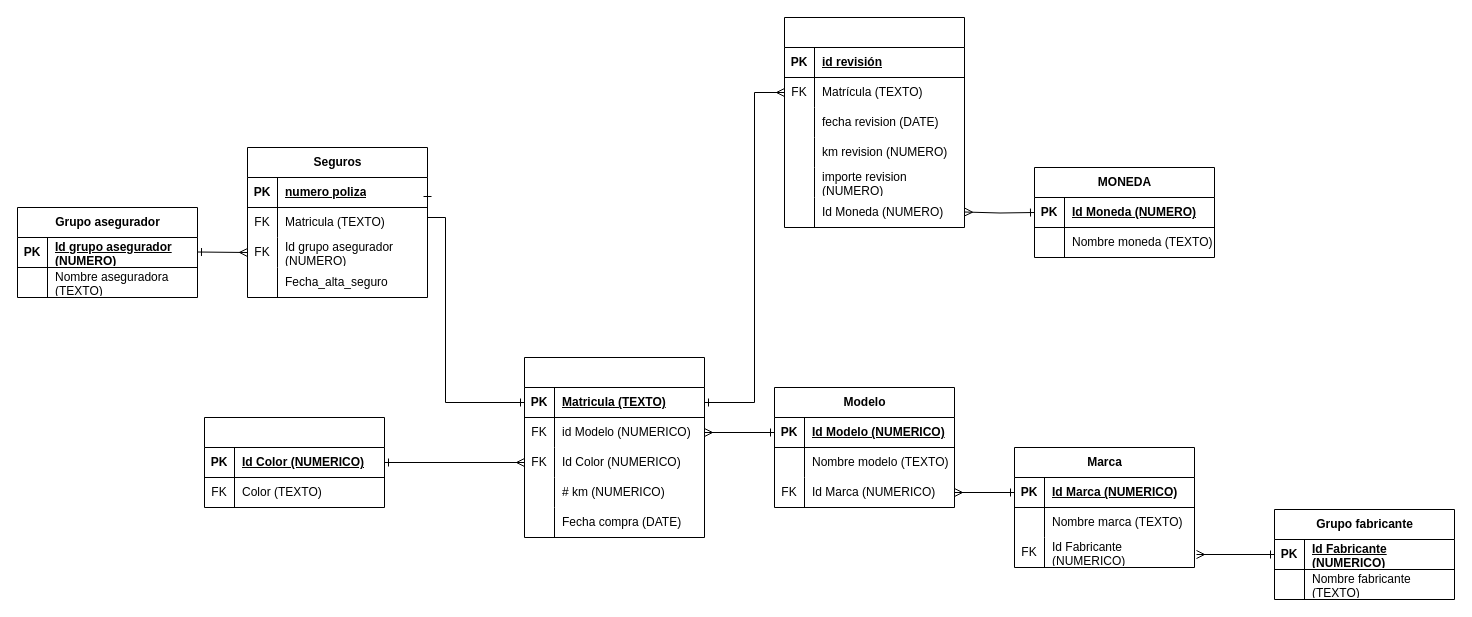
Image size: 1472x617. Some labels were removed from this diagram. The shapes that lost their labels are listed below. From the top down, each one's box as (x1, y1, x2, y2) in pixels, then its label:
(784, 16, 964, 228): Revisiones
(204, 416, 384, 508): Colores
(524, 356, 704, 538): Vehiculo
